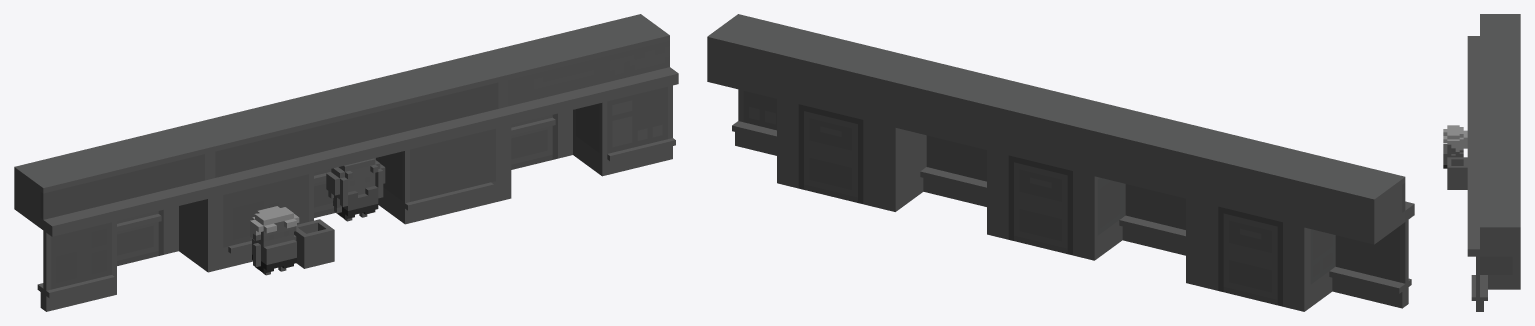
The model's file is scene_store.obj.
The picture shows the model from 3 angles, left to right: view 1: azimuth 30°, elevation 25°; view 2: azimuth 150°, elevation 25°; view 3: azimuth 270°, elevation 25°; orthographic projection. The views are drawn at different scales.
Bounding box in the file's own units: 124 × 23 × 19.
